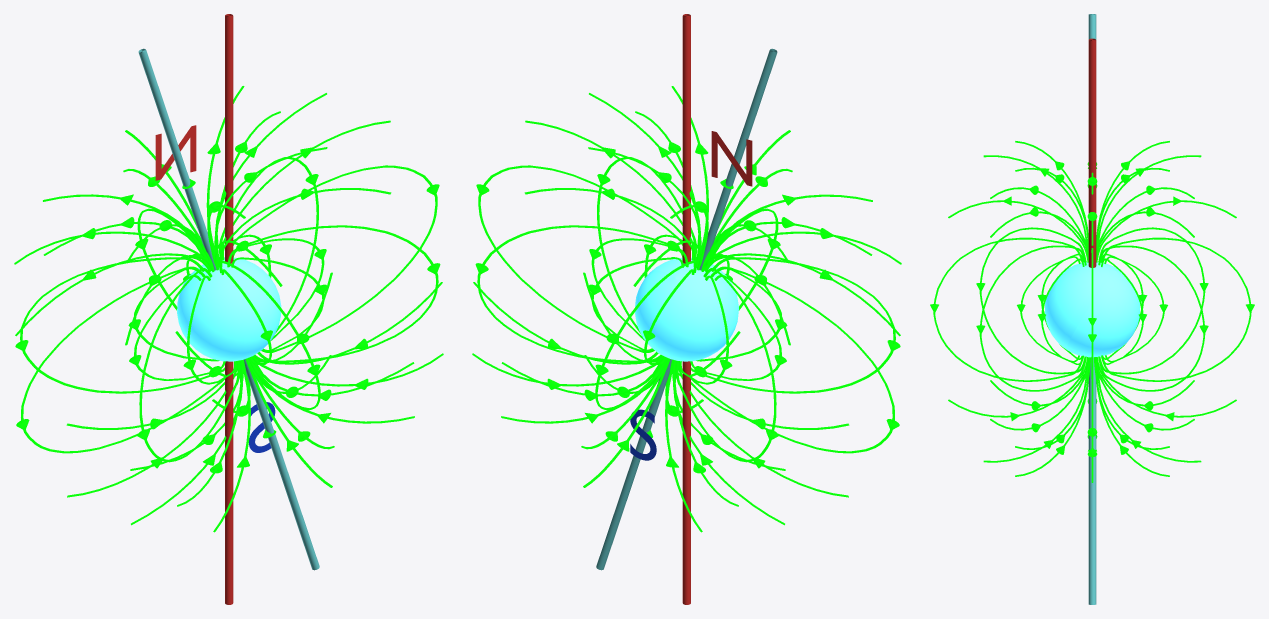
Rendered from estrella-campo-polos norte y sur.glb.
3 renders of one model, left to right at view 1: azimuth 30°, elevation 25°; view 2: azimuth 150°, elevation 25°; view 3: azimuth 270°, elevation 25°, orthographic. The views are drawn at different scales.
Visible parts, largest first — view 1: Texto-letra-campo-magnetico, Cylinder.001, Cylinder, Text.002; view 2: Texto-letra-campo-magnetico, Cylinder.001, Cylinder, Text.002, Text.003; view 3: Texto-letra-campo-magnetico, Cylinder, Cylinder.001.
Boxes of the visible parts, left/top/right/bottom form: Texto-letra-campo-magnetico: left=14, top=86, right=443, bottom=532; Cylinder.001: left=225, top=14, right=233, bottom=604; Cylinder: left=138, top=48, right=319, bottom=570; Text.002: left=155, top=125, right=196, bottom=180; Texto-letra-campo-magnetico: left=472, top=86, right=901, bottom=532; Cylinder.001: left=682, top=14, right=690, bottom=604; Cylinder: left=596, top=48, right=777, bottom=570; Text.002: left=711, top=131, right=752, bottom=186; Text.003: left=630, top=409, right=656, bottom=460; Texto-letra-campo-magnetico: left=930, top=141, right=1254, bottom=482; Cylinder: left=1088, top=14, right=1096, bottom=604; Cylinder.001: left=1088, top=38, right=1096, bottom=267.
Bounding box in the file's own units: 8.56 × 11.23 × 6.14.
